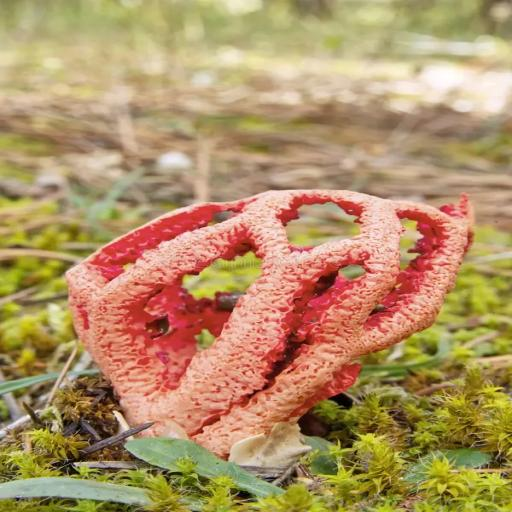Red Cage Fungus: (63, 177, 475, 489)
